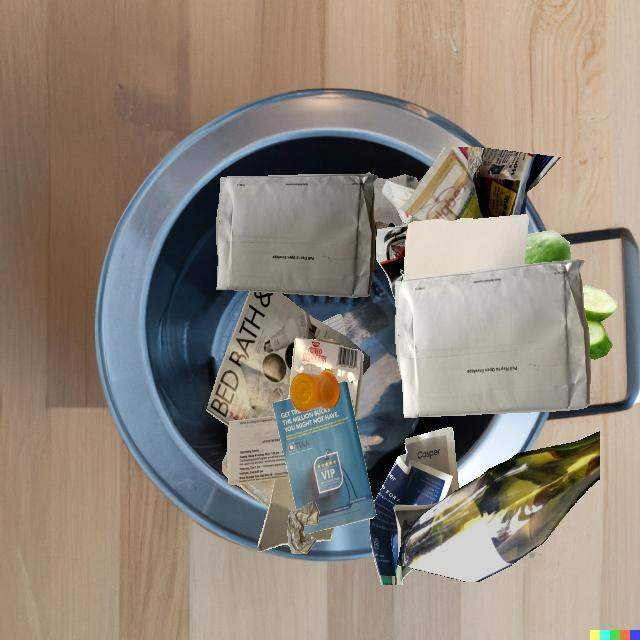biowaste: (583, 285, 618, 359), (524, 230, 570, 264)
cardboard: (289, 373, 329, 530), (318, 338, 363, 420), (257, 478, 296, 552), (288, 336, 318, 398)
glass: (397, 431, 600, 582), (373, 174, 419, 226), (374, 221, 388, 234)
paper: (395, 259, 591, 418), (376, 147, 560, 300), (206, 291, 370, 427), (216, 174, 378, 297), (272, 382, 376, 534), (369, 427, 459, 585), (403, 214, 528, 280), (227, 416, 289, 485), (287, 501, 319, 554), (321, 314, 346, 337)
plastic: (290, 368, 340, 412), (237, 479, 275, 508)
